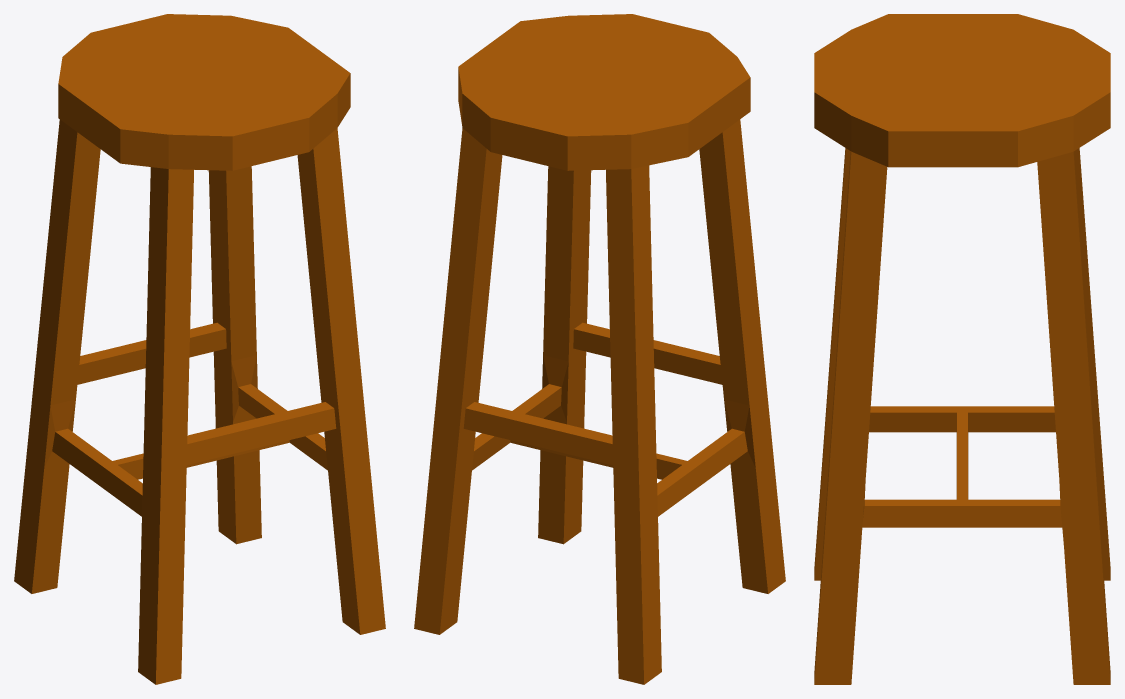
File: tabouret.fbx
3 views of the same model, side by side, from view 1: azimuth 30°, elevation 25°; view 2: azimuth 150°, elevation 25°; view 3: azimuth 270°, elevation 25° (orthographic). The views are drawn at different scales.
Visible parts, largest first — view 1: cuboid; view 2: cuboid; view 3: cuboid.
Part boxes in pixels (x1,y1,x2,y2): cuboid: (14,14,385,684); cuboid: (414,14,785,684); cuboid: (814,14,1110,684).
Size of the model in its own units: 93.75 by 206 by 100.
1 material, 1 textured.
